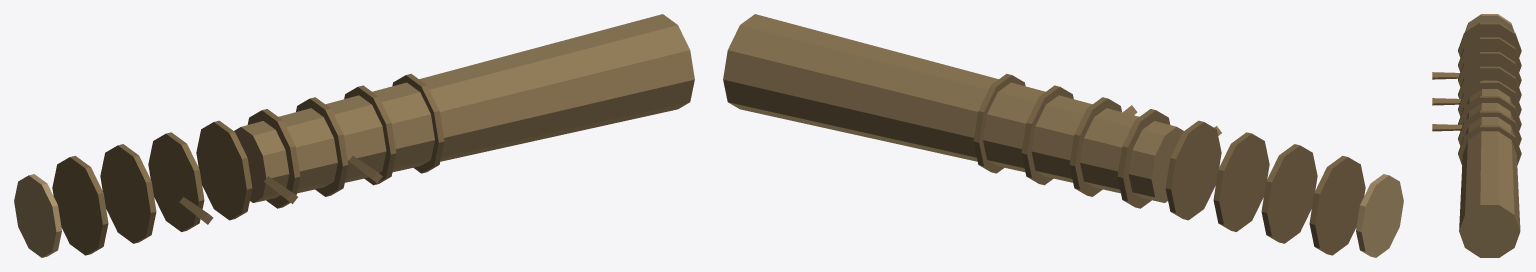
Rendered from log.glb.
The picture shows the model from 3 angles, left to right: view 1: azimuth 30°, elevation 25°; view 2: azimuth 150°, elevation 25°; view 3: azimuth 270°, elevation 25°; orthographic projection. The views are drawn at different scales.
Visible parts, largest first — view 1: geometry_0; view 2: geometry_0; view 3: geometry_0.
Boxes of the visible parts, <box> form: geometry_0: <box>14,14,694,257</box>; geometry_0: <box>723,14,1403,257</box>; geometry_0: <box>1432,14,1521,257</box>.
Bounding box in the file's own units: 2.25 × 0.2948 × 0.435.
